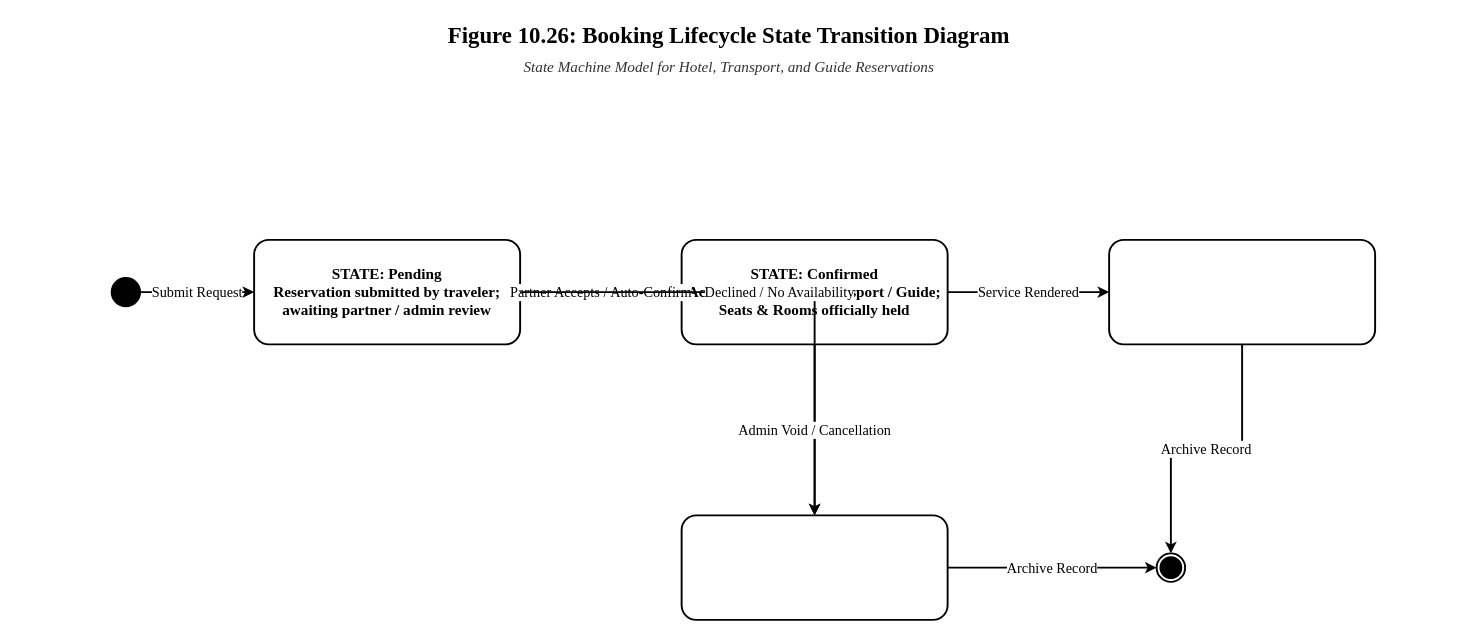
This 1457x637 diagram has some shape labels left out. Here are the shapes that lost their labels. From the top down, the box of each, then its label:
(1108, 238, 1376, 345): STATE: Completed Service fulfilled; eligible for traveler review & rating
(680, 514, 948, 620): STATE: Cancelled Declined by partner or voided by administrator
